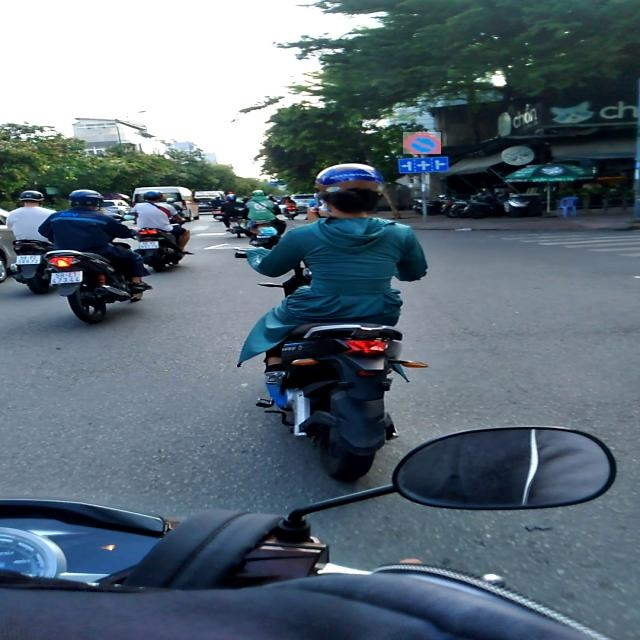bien_cam: (403, 132, 441, 154)
